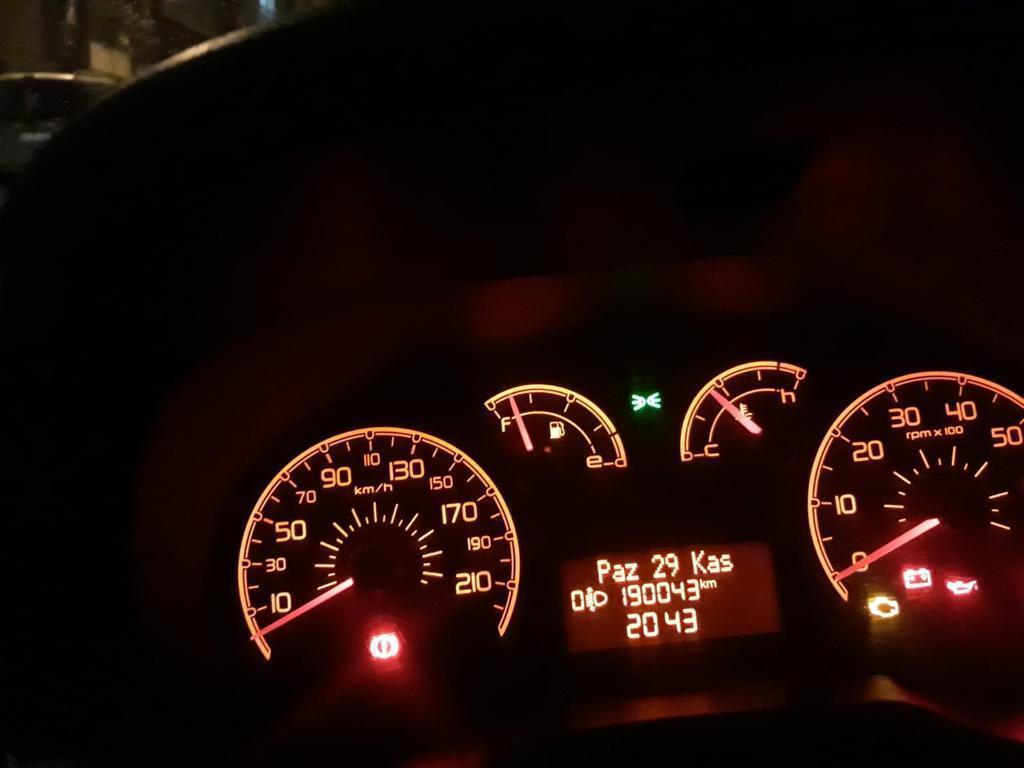0: (642, 610, 659, 637), (641, 583, 656, 605), (570, 588, 584, 611), (656, 581, 670, 603)
1: (620, 586, 628, 607)
2: (649, 552, 666, 577), (626, 612, 641, 638)
3: (681, 607, 697, 633), (686, 578, 699, 600)
4: (663, 610, 680, 633), (671, 580, 685, 601)
9: (665, 552, 680, 576), (626, 583, 641, 606)
X: (690, 549, 706, 574), (596, 558, 610, 584), (624, 561, 640, 581), (720, 552, 734, 571), (707, 554, 720, 573), (612, 563, 625, 582), (706, 579, 718, 588), (699, 577, 706, 588)
odometer: (554, 546, 787, 651)
